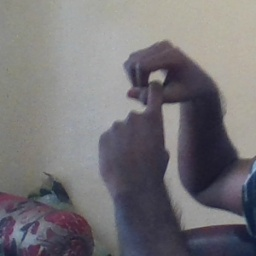Q: (94, 35, 199, 177)
